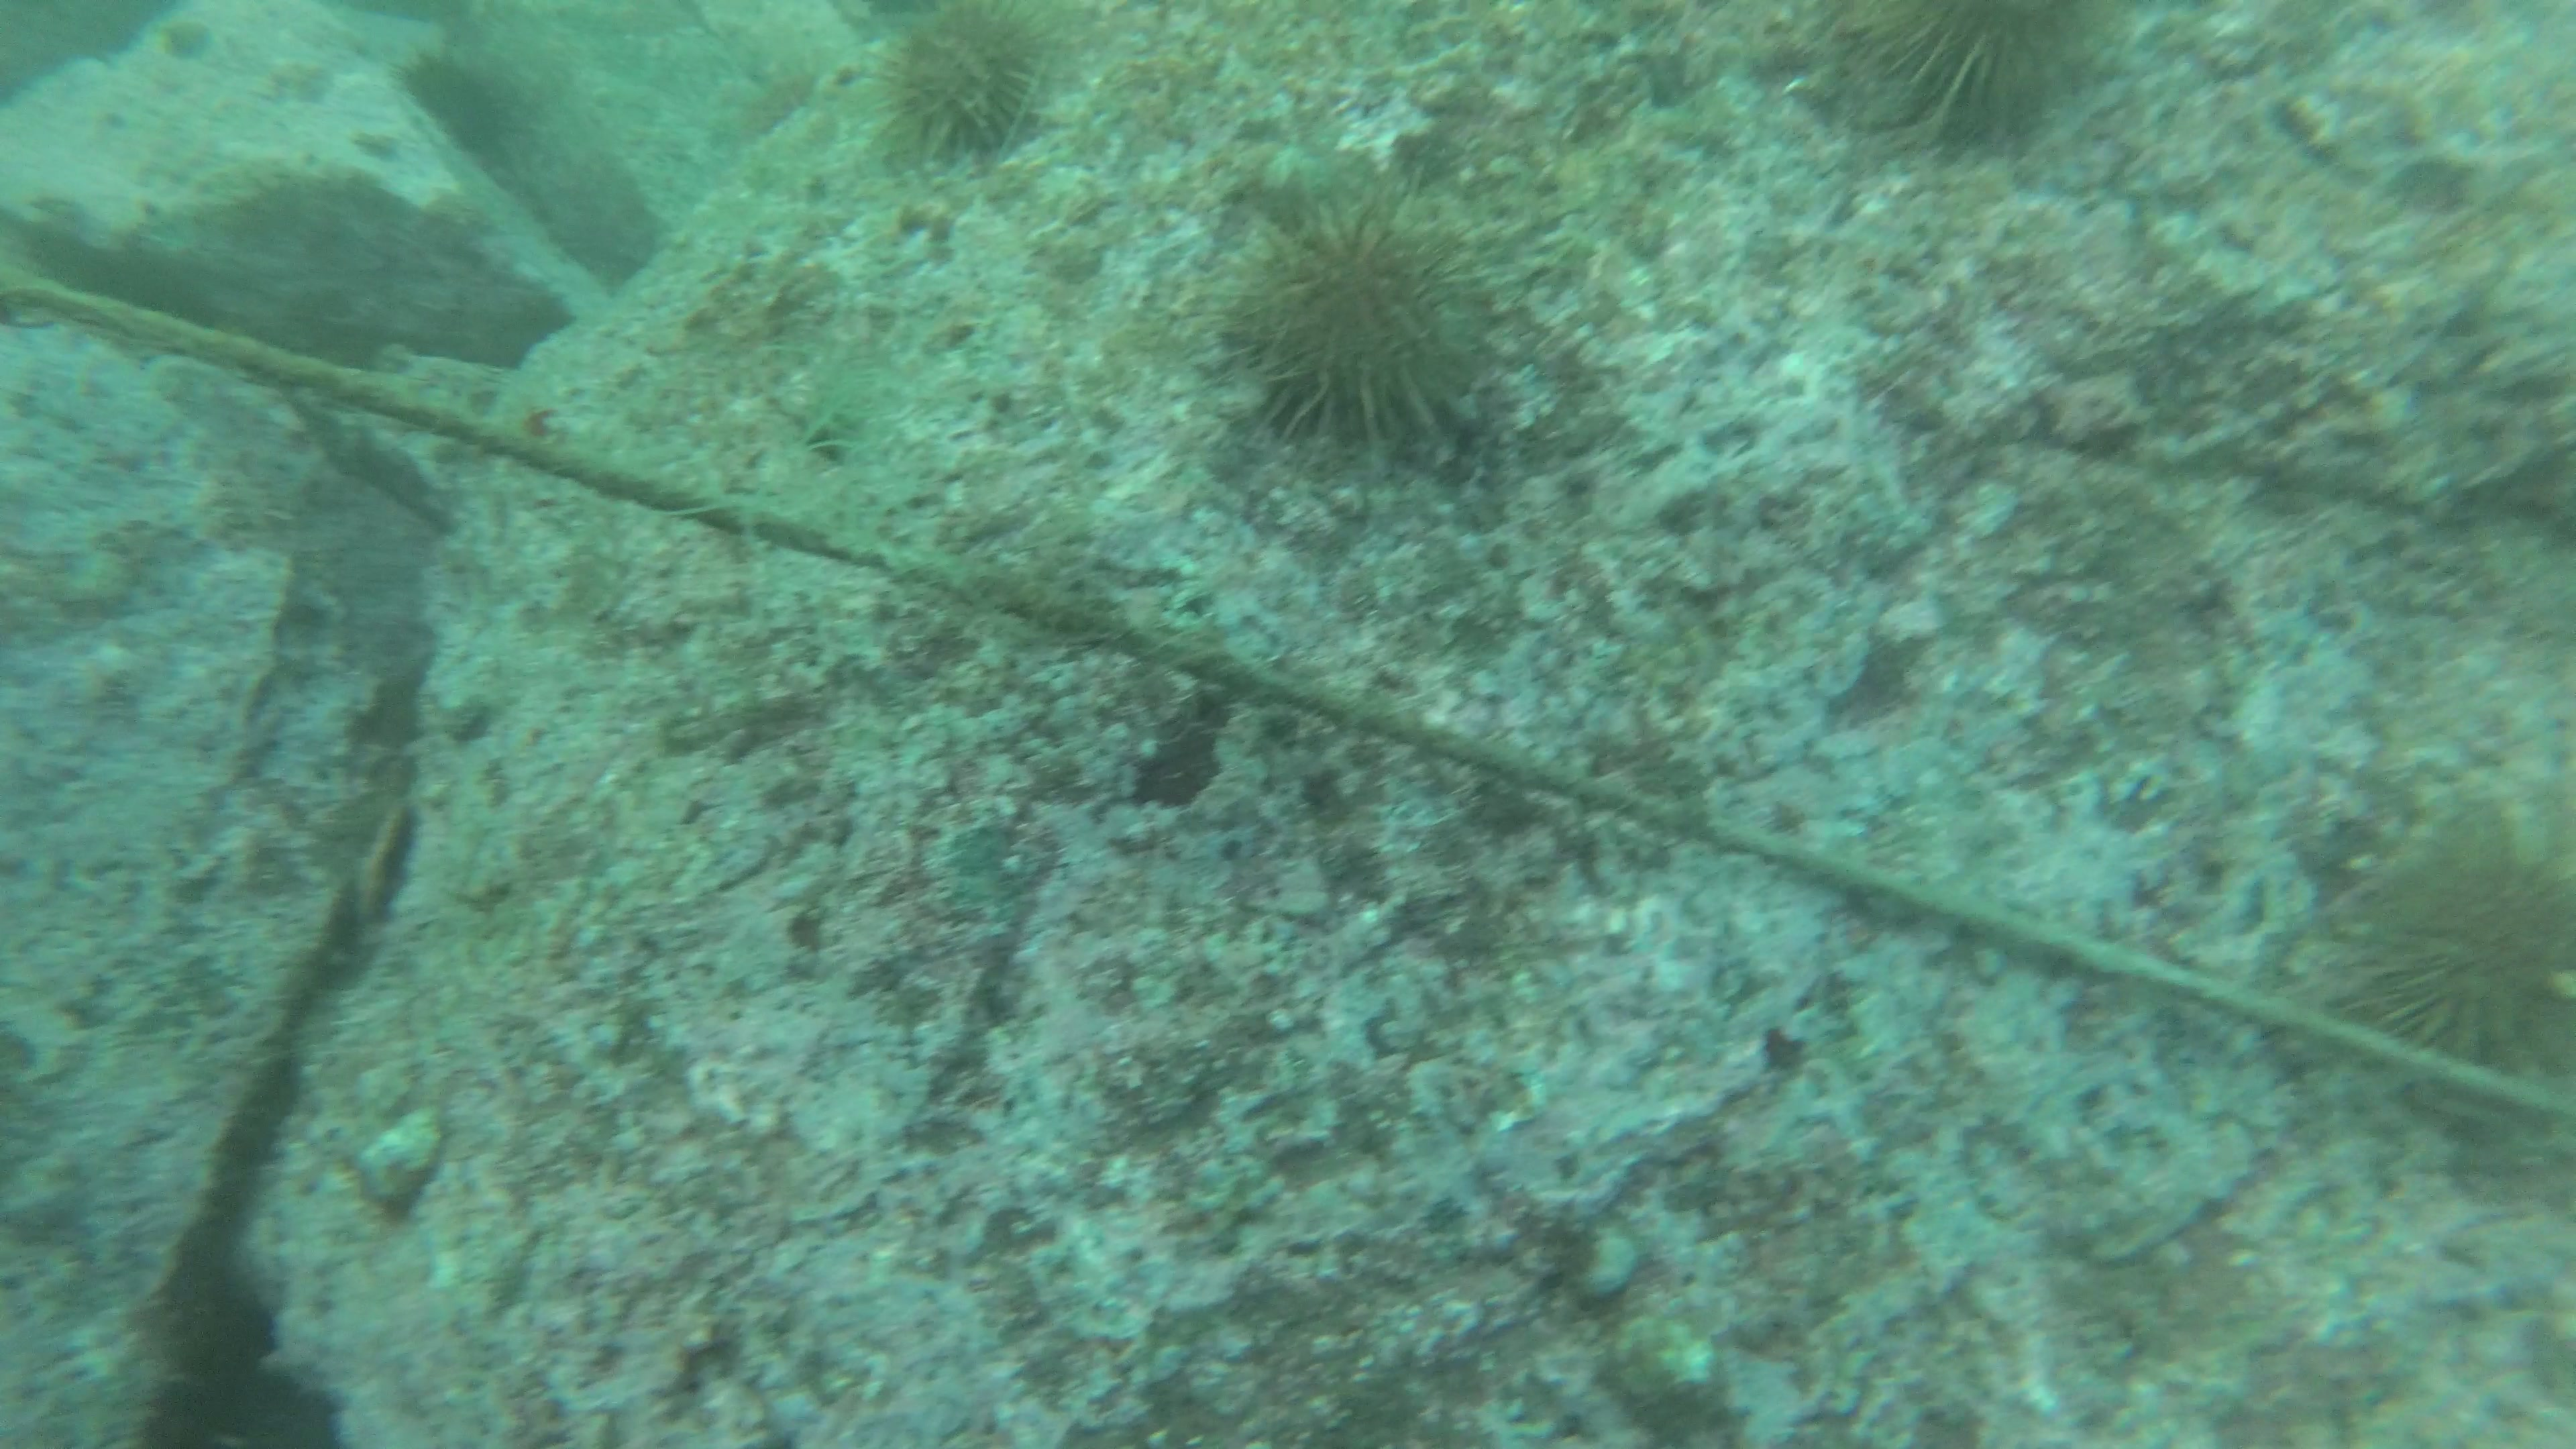echinus: (1185, 189, 1536, 439), (2351, 839, 2576, 1116), (1792, 0, 2079, 131), (870, 21, 1058, 163)
